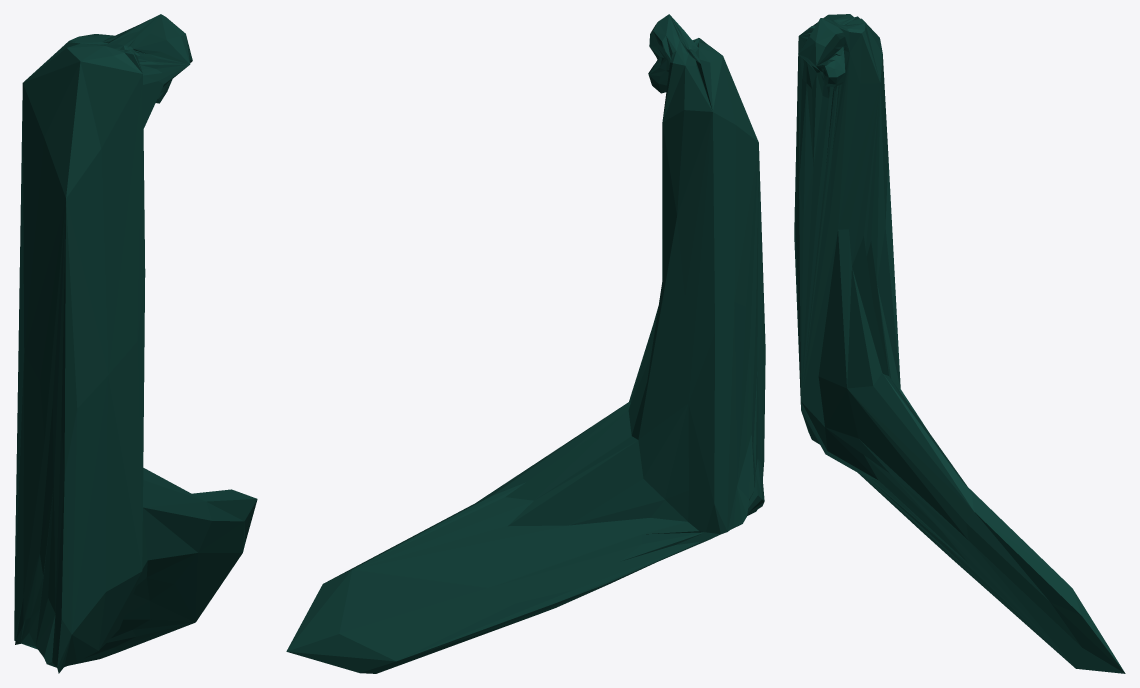
3 views of the same model, side by side, from view 1: azimuth 30°, elevation 25°; view 2: azimuth 150°, elevation 25°; view 3: azimuth 270°, elevation 25° (orthographic). The views are drawn at different scales.
Parts seen in each view (by area): view 1: 945_Cube.3822; view 2: 945_Cube.3822; view 3: 945_Cube.3822.
Boxes of the visible parts, x1,y1,x2,y2 form: 945_Cube.3822: (14, 14, 257, 673); 945_Cube.3822: (286, 14, 765, 673); 945_Cube.3822: (794, 14, 1125, 673).
Bounding box in the file's own units: 8.86 × 16 × 8.34.
